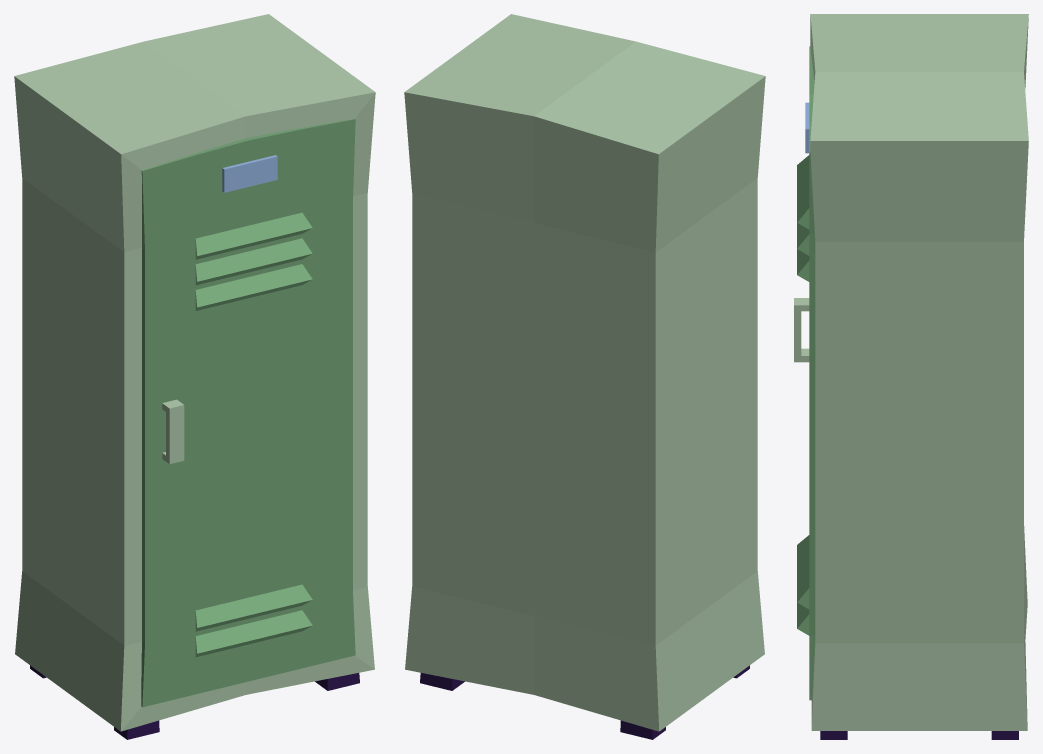
Rendered from Locker.fbx.
3 renders of one model, left to right at view 1: azimuth 30°, elevation 25°; view 2: azimuth 150°, elevation 25°; view 3: azimuth 270°, elevation 25°, orthographic. The views are drawn at different scales.
Parts seen in each view (by area): view 1: Locker, LockerDoorPiece1, LockerDoor, LockerPiece3, LockerPiece1, LockerDoorPiece2, LockerDoorPiece3, LockerPiece2; view 2: Locker, LockerPiece1, LockerPiece3, LockerPiece2; view 3: Locker, LockerPiece2, LockerPiece1, LockerDoor, LockerDoorPiece1, LockerPiece3, LockerDoorPiece3, LockerDoorPiece2.
Boxes of the visible parts, x1,y1,x2,y2 form: Locker: (14,14,375,696); LockerDoorPiece1: (141,119,355,399); LockerDoor: (141,119,355,707); LockerPiece3: (15,476,374,739); LockerPiece1: (14,74,375,337); LockerDoorPiece2: (142,325,277,609); LockerDoorPiece3: (143,377,355,700); LockerPiece2: (58,213,367,550); Locker: (404,14,765,739); LockerPiece1: (411,71,762,335); LockerPiece3: (428,476,763,738); LockerPiece2: (719,264,757,420); Locker: (810,14,1028,739); LockerPiece2: (815,261,1023,584); LockerPiece1: (810,14,1028,261); LockerDoor: (794,46,815,700); LockerDoorPiece1: (797,130,815,437); LockerPiece3: (811,584,1023,732); LockerDoorPiece3: (797,437,815,698); LockerDoorPiece2: (794,298,809,362).
Size of the model in its own units: 881 by 1975 by 689.
